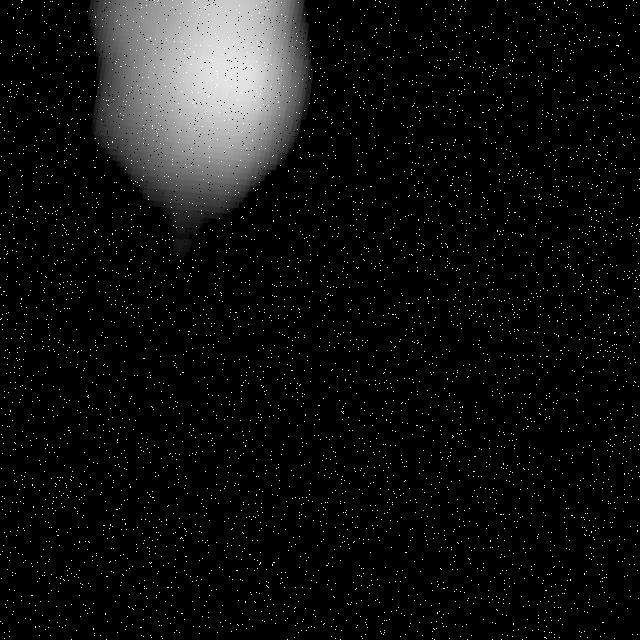person: (61, 1, 334, 273)
